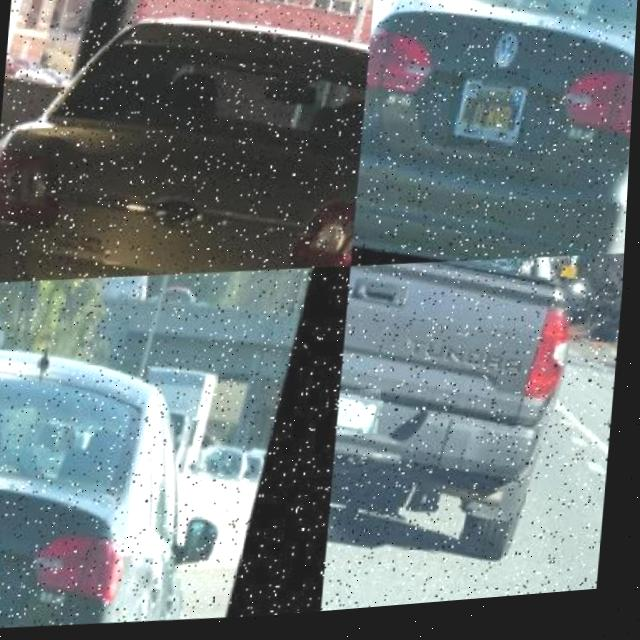LicensePlate: (447, 75, 531, 157), (341, 397, 385, 441), (0, 529, 8, 607)
